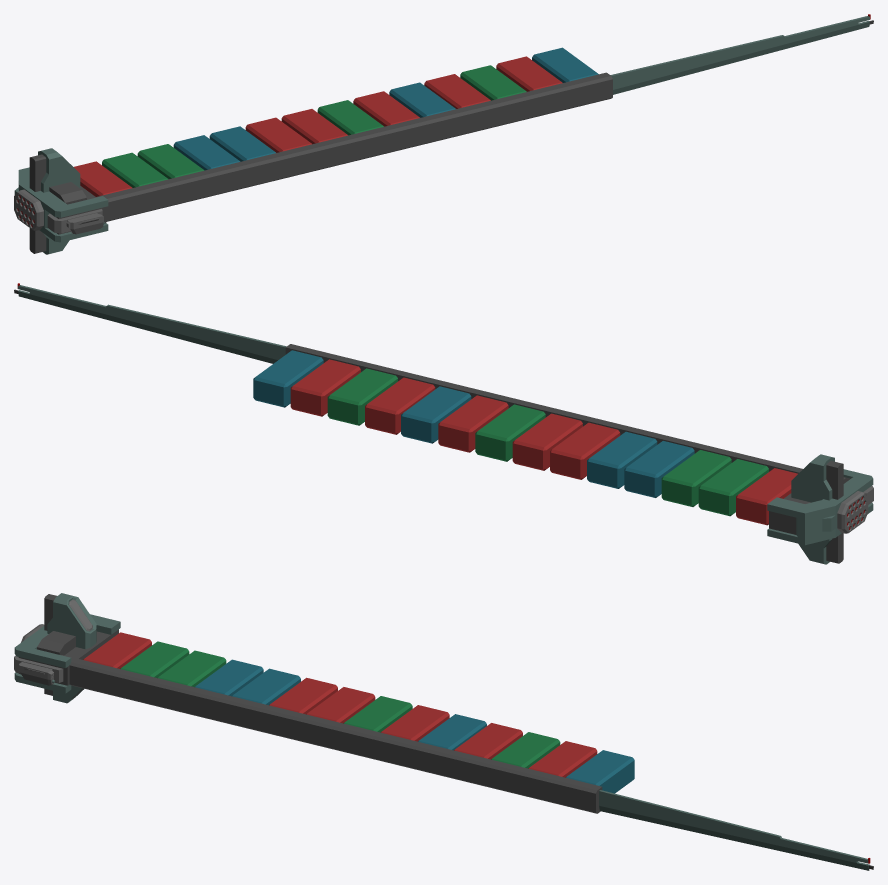
File: CargoShip_1.fbx
3 views of the same model, one above another, from view 1: azimuth 30°, elevation 25°; view 2: azimuth 150°, elevation 25°; view 3: azimuth 330°, elevation 25° (orthographic). The views are drawn at different scales.
Visible parts, largest first — view 1: Cube.003; view 2: Cube.003; view 3: Cube.003.
Boxes of the visible parts, x1=… form: Cube.003: x1=14, y1=14, x2=873, y2=254; Cube.003: x1=14, y1=283, x2=873, y2=564; Cube.003: x1=14, y1=593, x2=873, y2=870.
Bounding box in the file's own units: 7628 × 877 × 934.
